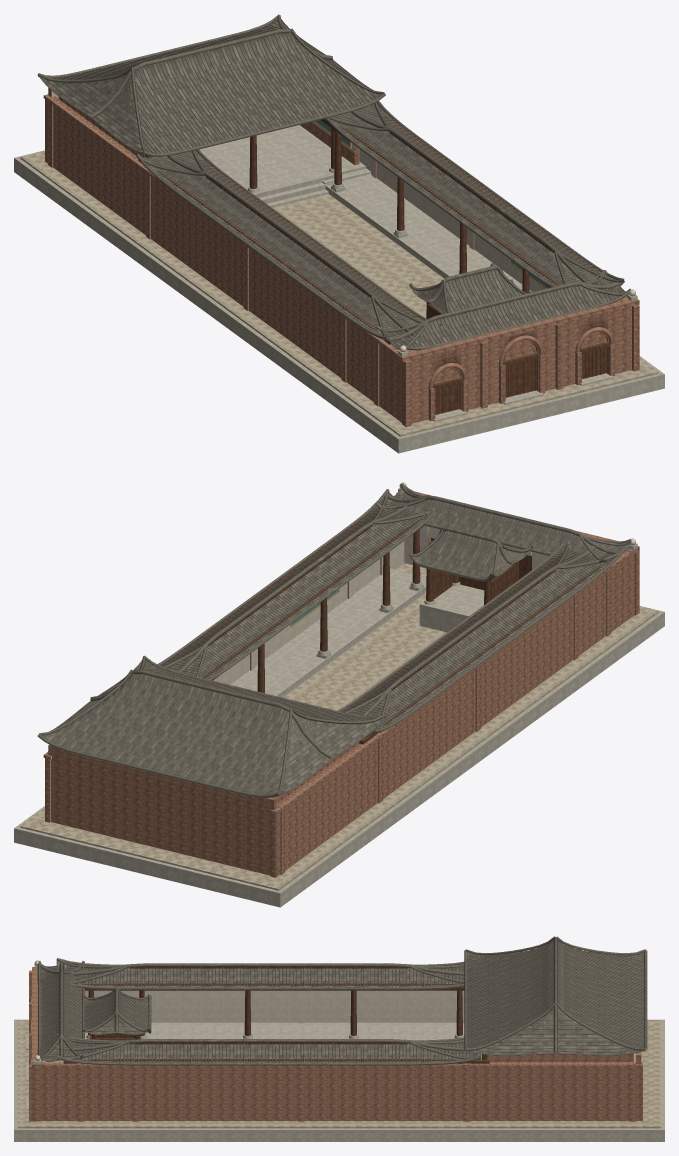
The model's file is corridor-a.glb.
The picture shows the model from 3 angles, top to bottom: view 1: azimuth 30°, elevation 25°; view 2: azimuth 150°, elevation 25°; view 3: azimuth 270°, elevation 25°; orthographic projection. The views are drawn at different scales.
Visible parts, largest first — view 1: 03_MainHall, 01_Base, 02_Enclosure, 07_Entrance, 05_EastGallery, 04_WestGallery, 06_Stage; view 2: 02_Enclosure, 01_Base, 03_MainHall, 05_EastGallery, 04_WestGallery, 07_Entrance, 06_Stage; view 3: 02_Enclosure, 03_MainHall, 01_Base, 04_WestGallery, 05_EastGallery, 07_Entrance, 06_Stage.
Boxes of the visible parts, left/top/right/bottom form: 03_MainHall: left=37, top=14, right=385, bottom=207; 01_Base: left=14, top=150, right=664, bottom=453; 02_Enclosure: left=43, top=88, right=627, bottom=420; 07_Entrance: left=375, top=270, right=639, bottom=426; 05_EastGallery: left=321, top=101, right=624, bottom=294; 04_WestGallery: left=136, top=149, right=441, bottom=344; 06_Stage: left=409, top=263, right=530, bottom=318; 02_Enclosure: left=43, top=541, right=630, bottom=877; 01_Base: left=14, top=563, right=664, bottom=907; 03_MainHall: left=37, top=655, right=385, bottom=803; 05_EastGallery: left=157, top=489, right=435, bottom=697; 04_WestGallery: left=337, top=541, right=626, bottom=744; 07_Entrance: left=375, top=482, right=639, bottom=617; 06_Stage: left=409, top=524, right=532, bottom=632; 02_Enclosure: left=42, top=990, right=642, bottom=1121; 03_MainHall: left=464, top=936, right=647, bottom=1062; 01_Base: left=14, top=1019, right=664, bottom=1141; 04_WestGallery: left=56, top=958, right=464, bottom=1040; 05_EastGallery: left=56, top=1033, right=489, bottom=1065; 07_Entrance: left=26, top=960, right=84, bottom=1121; 06_Stage: left=82, top=987, right=151, bottom=1040.
Size of the model in its own units: 11.8 by 5.97 by 29.5.
Materials: 13 (10 with a texture image).
